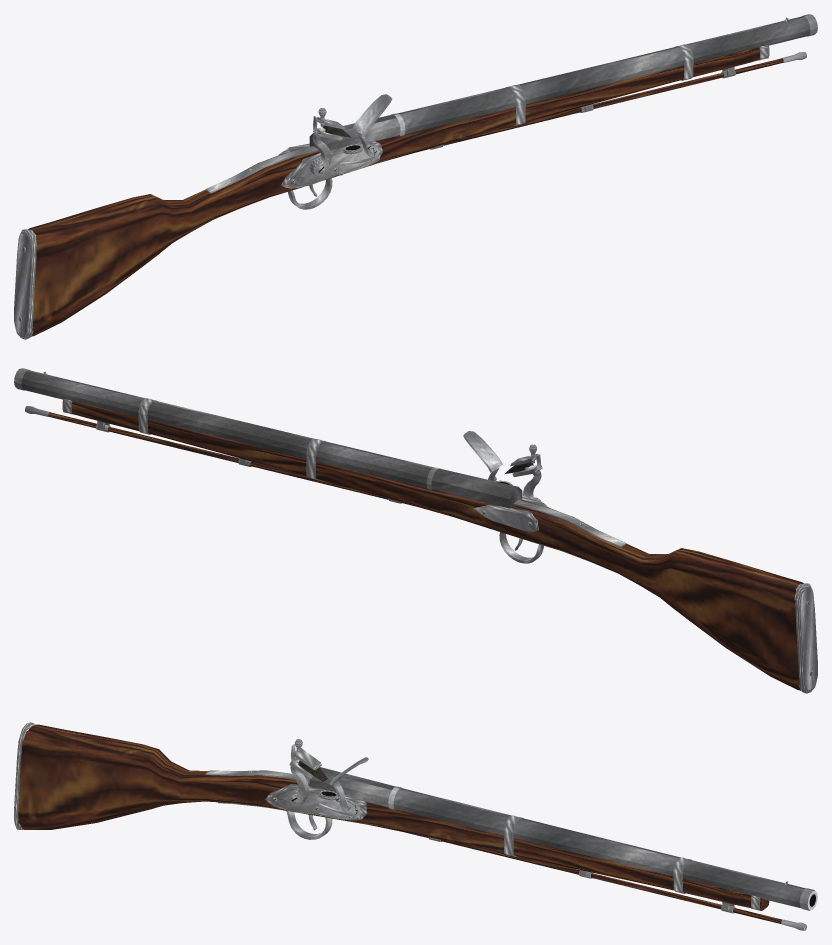
Rendered from Mosquete.glb.
3 renders of one model, top to bottom at view 1: azimuth 30°, elevation 25°; view 2: azimuth 150°, elevation 25°; view 3: azimuth 330°, elevation 25°, orthographic.
Parts seen in each view (by area): view 1: Coronha e fuste de madeira, Cano longo de aço, Chapa de soleira, Platina da fechadura, Vareta de carga, Culatra facetada, Cauda superior da culatra, Abraçadeiras do cano, Bateria aberta; view 2: Coronha e fuste de madeira, Cano longo de aço, Chapa de soleira, Culatra facetada, Vareta de carga, Contraplatina, Cauda superior da culatra, Abraçadeiras do cano, Bateria aberta; view 3: Coronha e fuste de madeira, Cano longo de aço, Platina da fechadura, Vareta de carga, Culatra facetada, Abraçadeiras do cano, Chapa de soleira, Cauda superior da culatra, Guarda-mato.
Boxes of the visible parts, bbox=[...] form: Coronha e fuste de madeira: bbox=[28, 45, 769, 336]; Cano longo de aço: bbox=[397, 16, 810, 134]; Chapa de soleira: bbox=[14, 229, 37, 339]; Platina da fechadura: bbox=[281, 141, 382, 188]; Vareta de carga: bbox=[418, 58, 783, 151]; Culatra facetada: bbox=[309, 114, 400, 152]; Cauda superior da culatra: bbox=[205, 146, 318, 193]; Abraçadeiras do cano: bbox=[506, 44, 693, 125]; Bateria aberta: bbox=[353, 94, 392, 135]; Coronha e fuste de madeira: bbox=[62, 399, 803, 690]; Cano longo de aço: bbox=[21, 370, 434, 488]; Chapa de soleira: bbox=[794, 583, 817, 693]; Culatra facetada: bbox=[431, 468, 522, 508]; Vareta de carga: bbox=[48, 412, 413, 505]; Contraplatina: bbox=[473, 504, 538, 531]; Cauda superior da culatra: bbox=[513, 500, 626, 547]; Abraçadeiras do cano: bbox=[138, 398, 325, 479]; Bateria aberta: bbox=[463, 431, 502, 472]; Coronha e fuste de madeira: bbox=[18, 724, 769, 910]; Cano longo de aço: bbox=[393, 788, 806, 907]; Platina da fechadura: bbox=[265, 784, 367, 819]; Vareta de carga: bbox=[406, 832, 781, 923]; Culatra facetada: bbox=[309, 767, 395, 807]; Abraçadeiras do cano: bbox=[504, 815, 691, 893]; Chapa de soleira: bbox=[14, 722, 35, 829]; Cauda superior da culatra: bbox=[205, 770, 309, 783]; Guarda-mato: bbox=[286, 810, 332, 839].
Bounding box in the file's own units: 1.41 × 0.285 × 0.0812.
6 materials, 6 textured.
